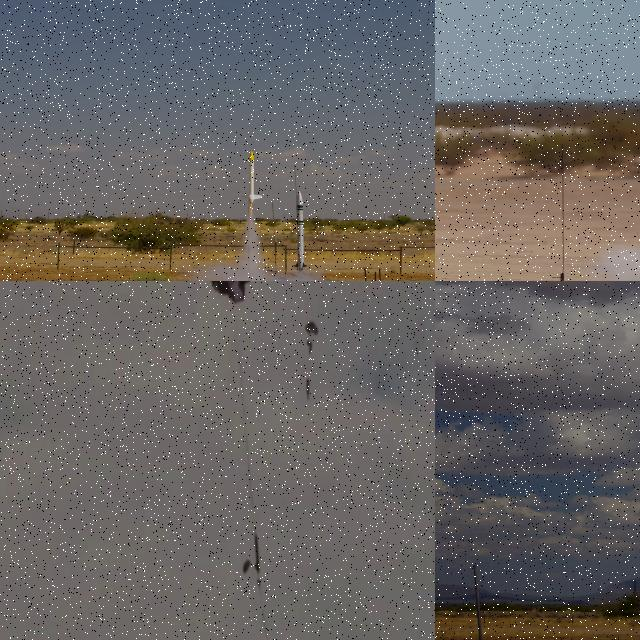Rocket: (291, 190, 308, 270), (241, 151, 263, 204), (254, 533, 260, 574)
